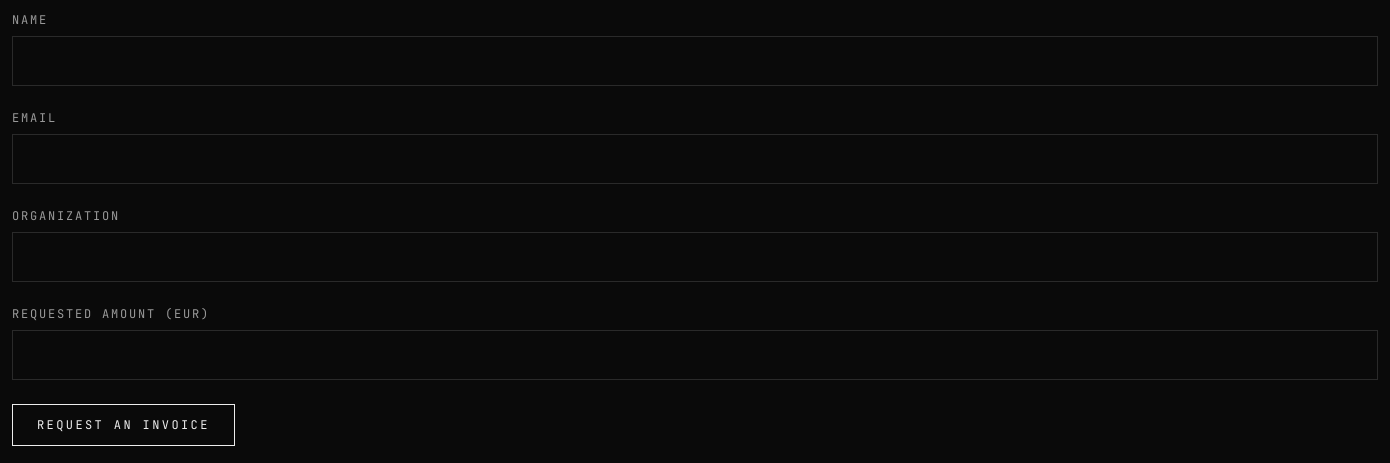
Scenario: InvoiceForm (Req 15.4, 17.4, 17.8) › parses the amount to a number and POSTs to /api/forms/invoice, then confirms (Req 15.4, 17.8)
Type "Ada" into the field labelled "Name" at (695,61), box [12,36,1378,86]
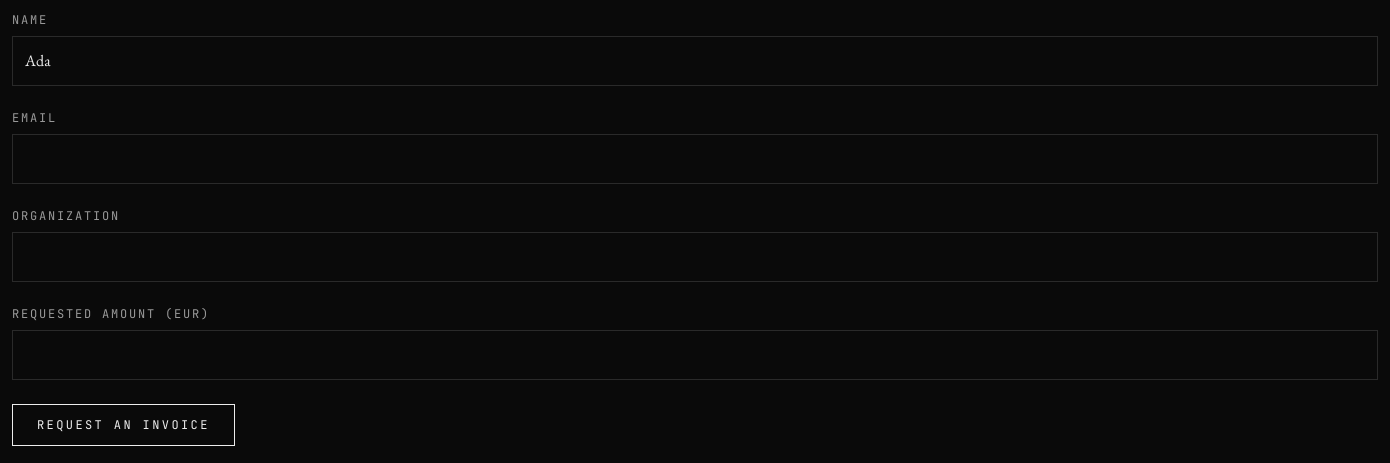
Type "ada@example.com" into the field labelled "Email" at (695,159), box [12,134,1378,184]
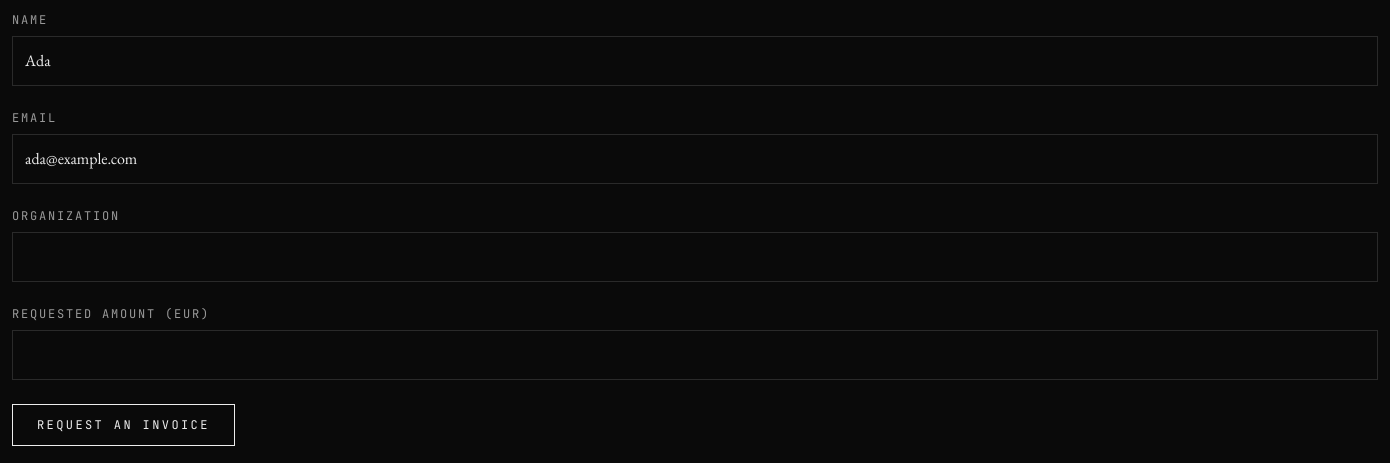
Type "Analytical Engine Co." into the field labelled "Organization" at (695,257), box [12,232,1378,282]
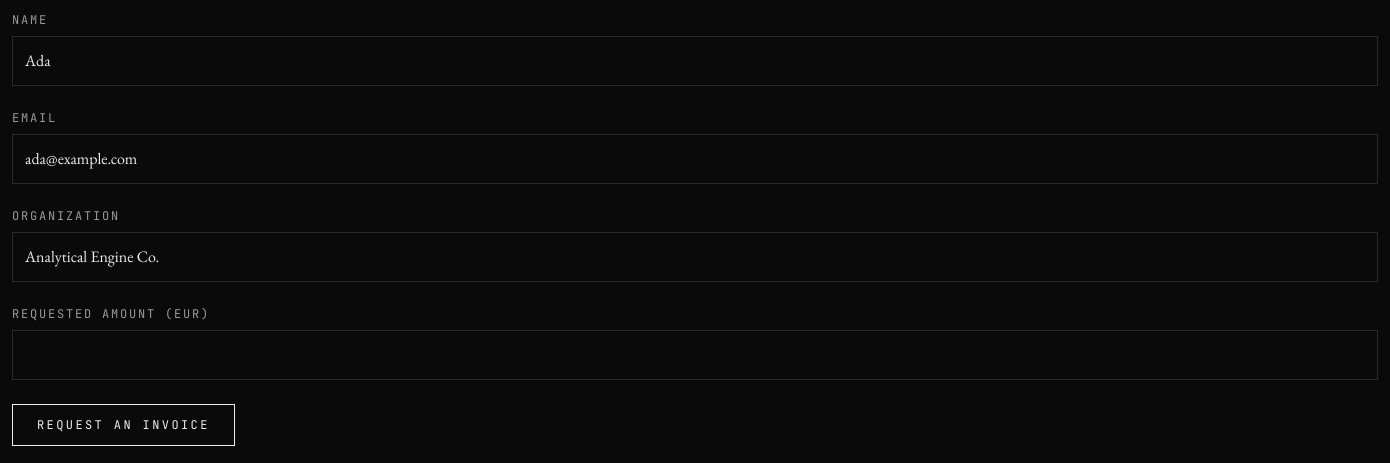
Type "5000" into the number field labelled "Requested amount (EUR)" at (695,355), box [12,330,1378,380]
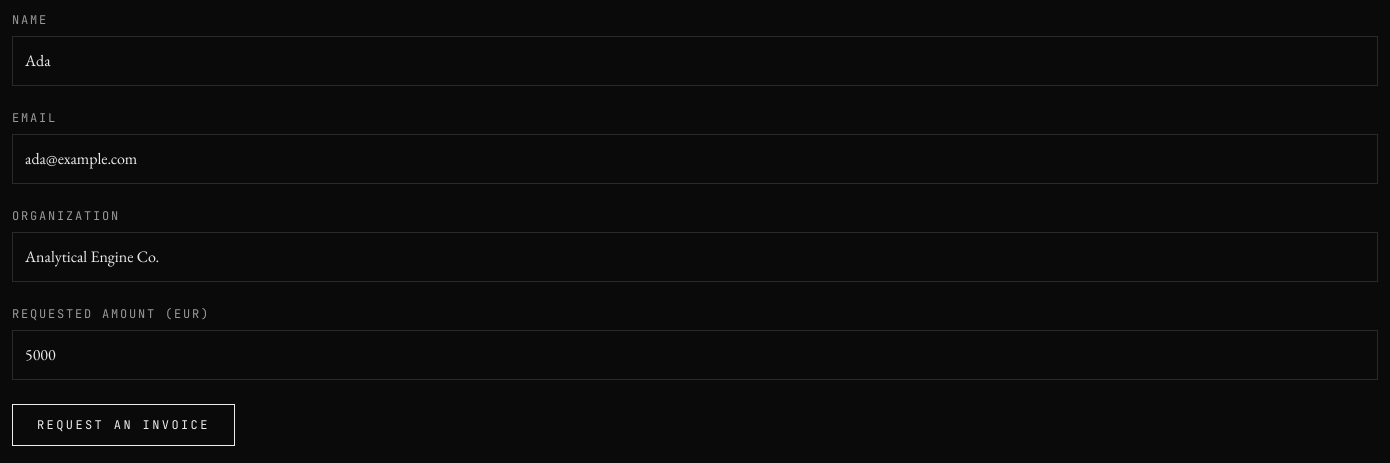
Click the button "Request an invoice" at (123,425), box [12,404,235,446]
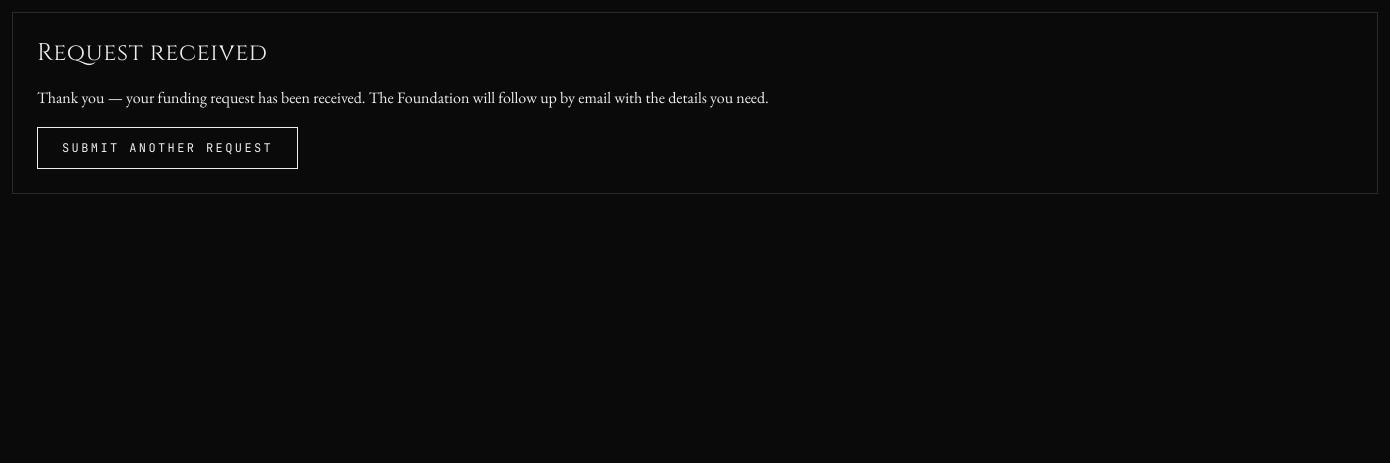
Result: the heading "Request received" is shown at [37,37,268,69]
